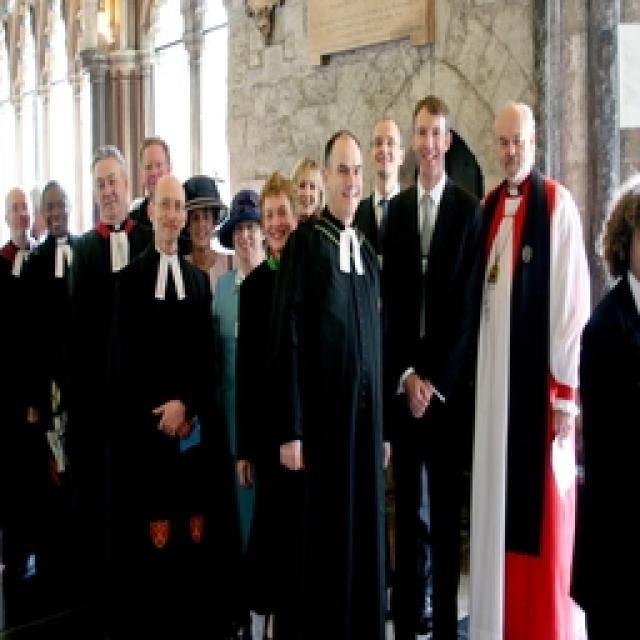Abbey: (1, 1, 640, 276)
